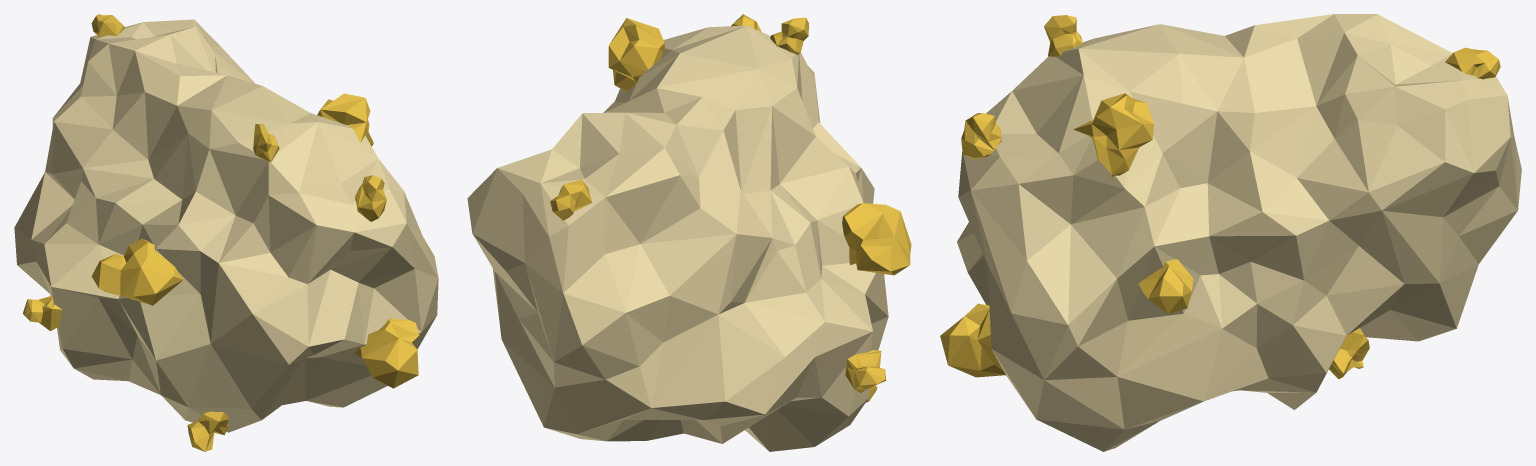
File: MetalOre (40).fbx
3 renders of one model, left to right at view 1: azimuth 30°, elevation 25°; view 2: azimuth 150°, elevation 25°; view 3: azimuth 270°, elevation 25°, orthographic. The views are drawn at different scales.
Parts seen in each view (by area): view 1: Asteroid395; view 2: Asteroid395; view 3: Asteroid395.
Part boxes in pixels (box(x1,y1,x2,y2)): Asteroid395: box(14, 14, 438, 451); Asteroid395: box(467, 14, 911, 451); Asteroid395: box(940, 14, 1521, 451).
Bounding box in the file's own units: 348 × 320 × 444.
